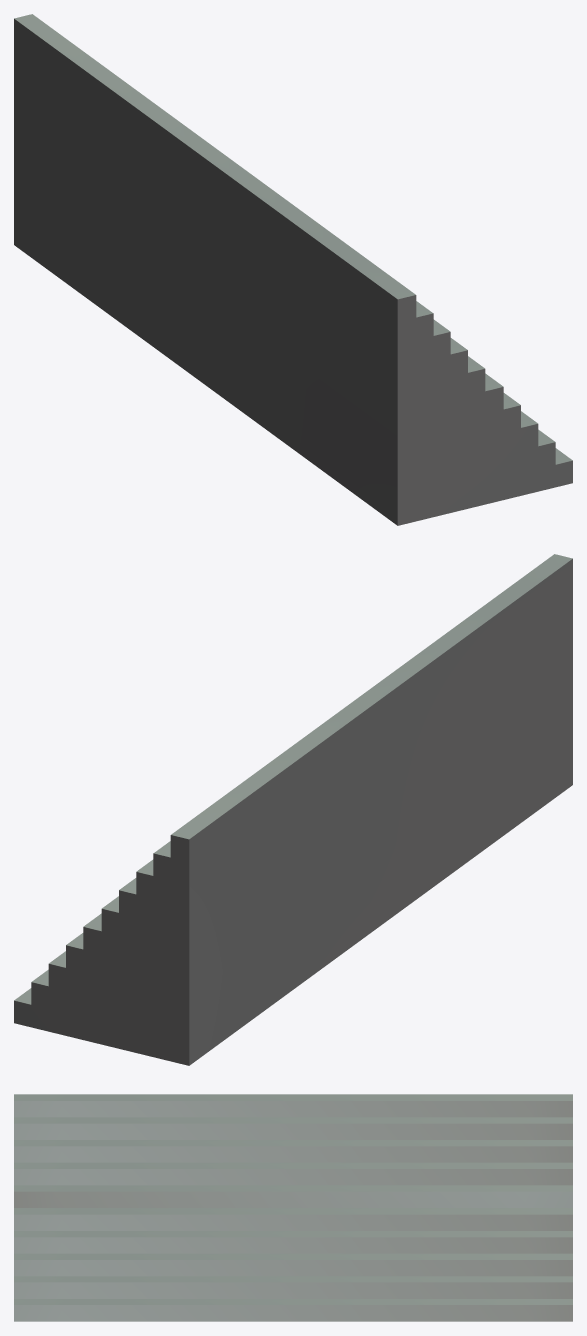
3 renders of one model, top to bottom at view 1: azimuth 30°, elevation 25°; view 2: azimuth 150°, elevation 25°; view 3: azimuth 270°, elevation 25°, orthographic. The views are drawn at different scales.
Parts seen in each view (by area): view 1: stairs_01; view 2: stairs_01; view 3: stairs_01.
Part boxes in pixels (<box>): stairs_01: <box>14,14,572,525</box>; stairs_01: <box>14,554,572,1065</box>; stairs_01: <box>14,1094,572,1321</box>.
Bounding box in the file's own units: 0.5673 × 0.7007 × 2.15.
1 material, 1 textured.
